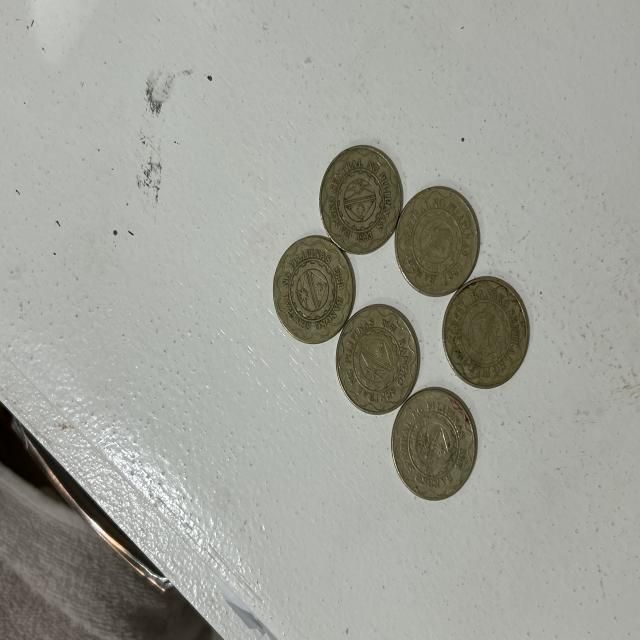5_Old_Back: (390, 388, 481, 498), (317, 142, 398, 259), (395, 184, 474, 303), (442, 280, 533, 382), (335, 306, 420, 409), (271, 235, 349, 336)
